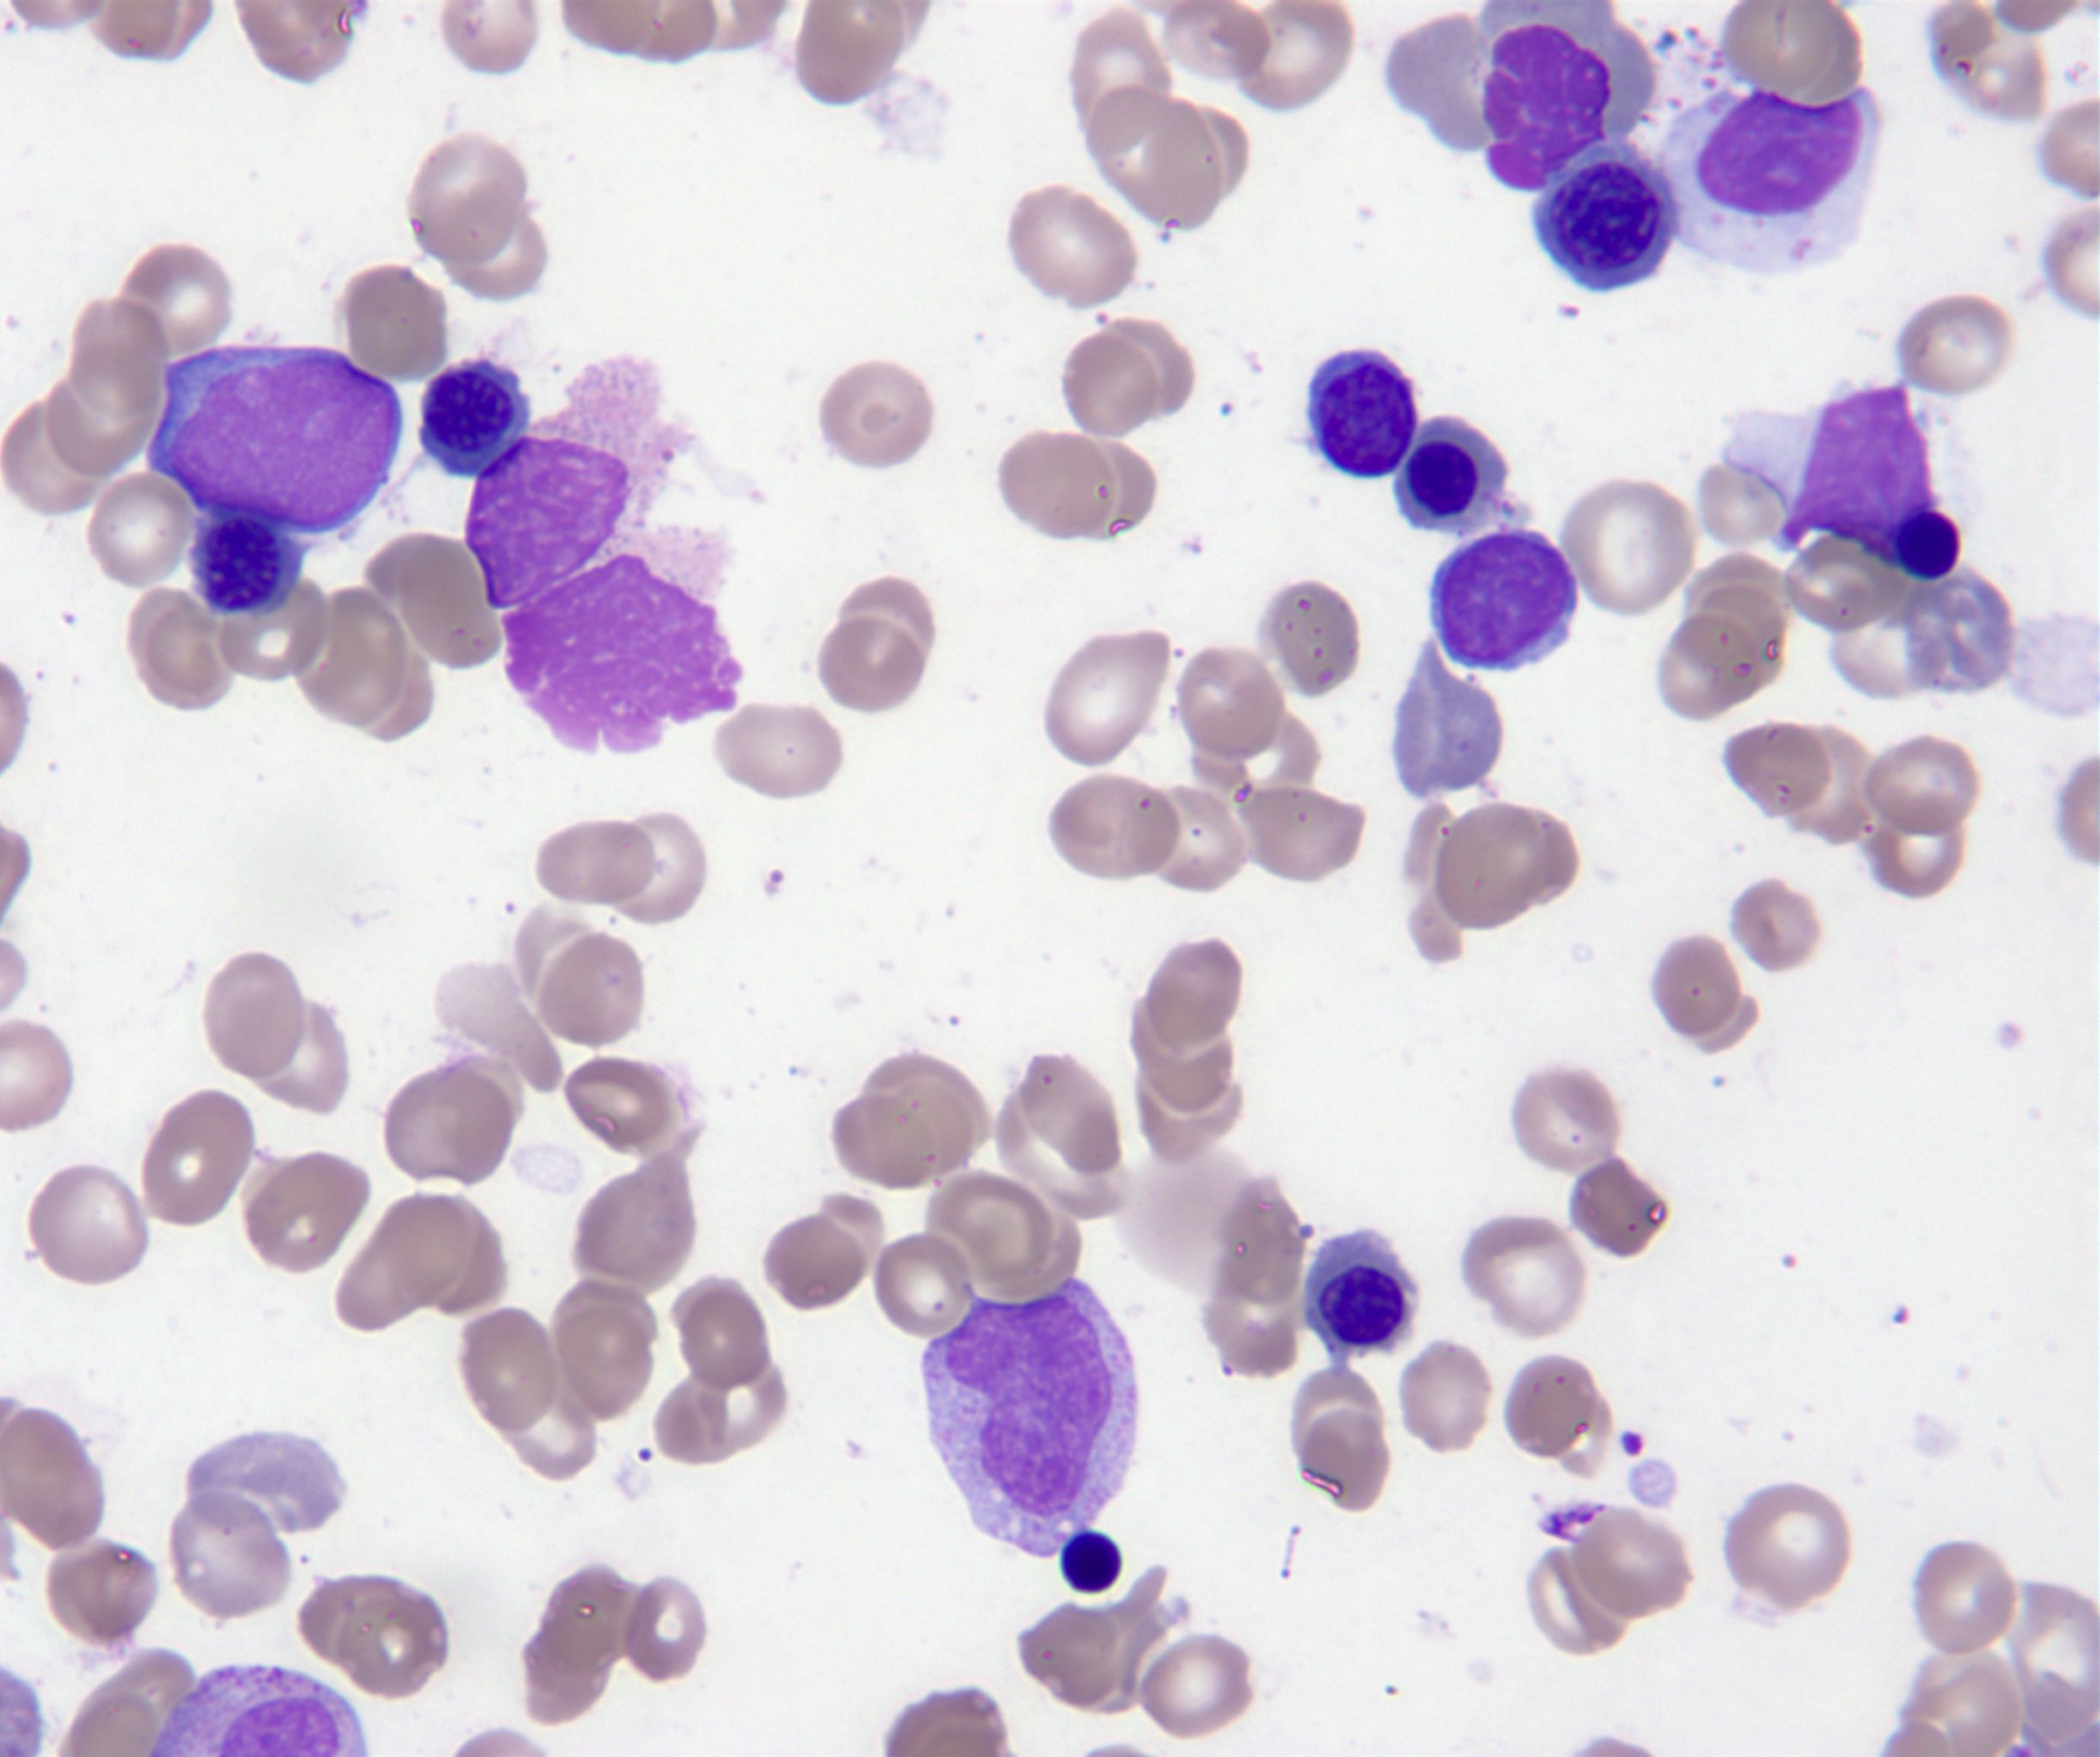1: (148, 345, 399, 530)
23: (1533, 140, 1680, 291)
24: (1303, 1228, 1420, 1375), (1395, 415, 1509, 536), (190, 513, 314, 616), (420, 358, 530, 469)
32: (1655, 84, 1884, 269), (1430, 529, 1578, 670), (1312, 347, 1420, 478)
42: (923, 1279, 1137, 1560)
x: (469, 356, 706, 609), (501, 527, 743, 750), (1723, 384, 1957, 576), (152, 1666, 368, 1757), (1488, 28, 1610, 187)
